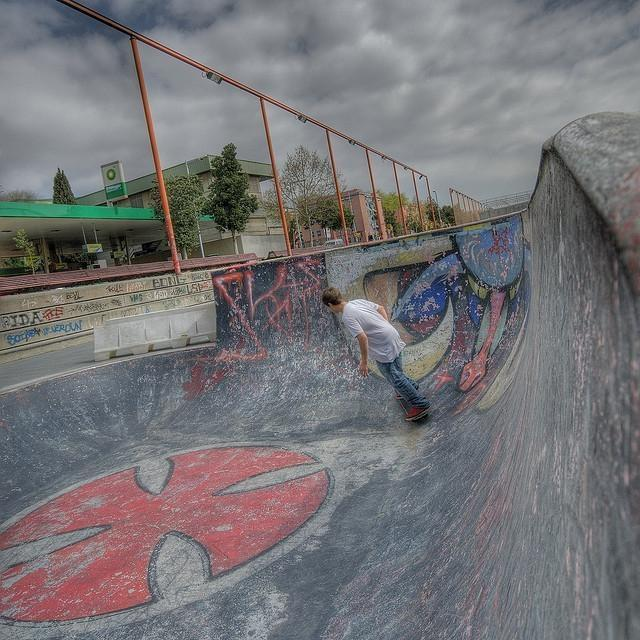car: (322, 238, 346, 246)
